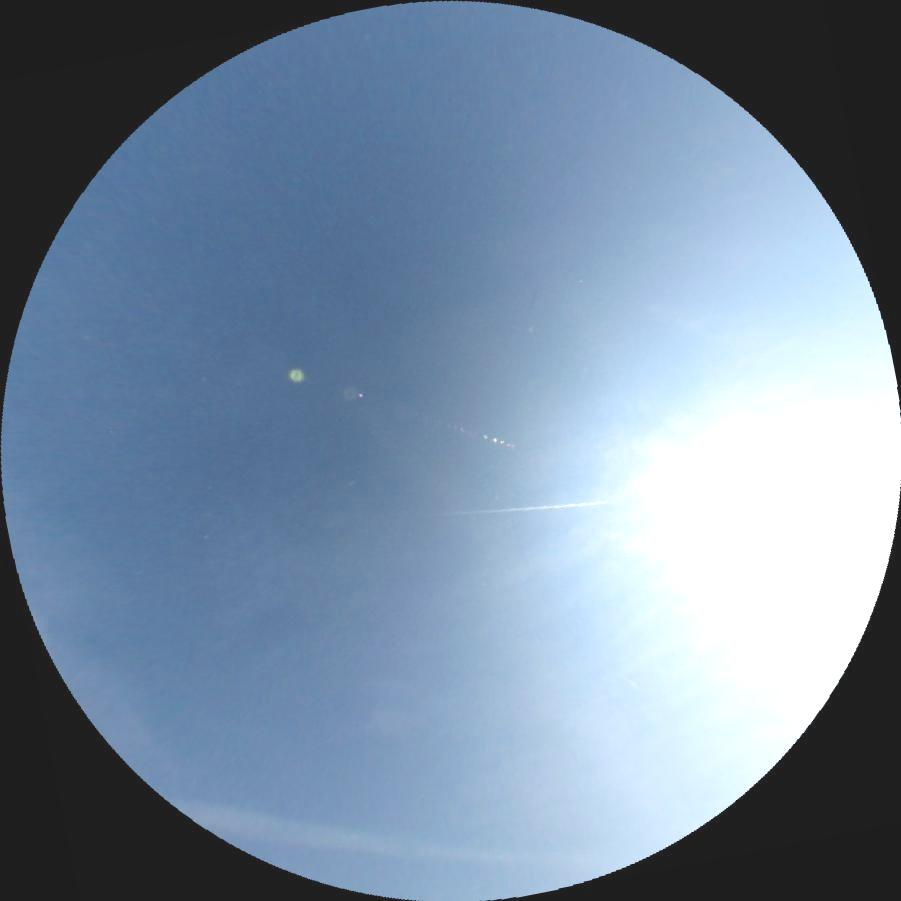contrail veryold: (170, 800, 573, 884)
contrail young: (421, 499, 609, 517), (616, 669, 639, 689)
sun: (709, 411, 901, 637)
